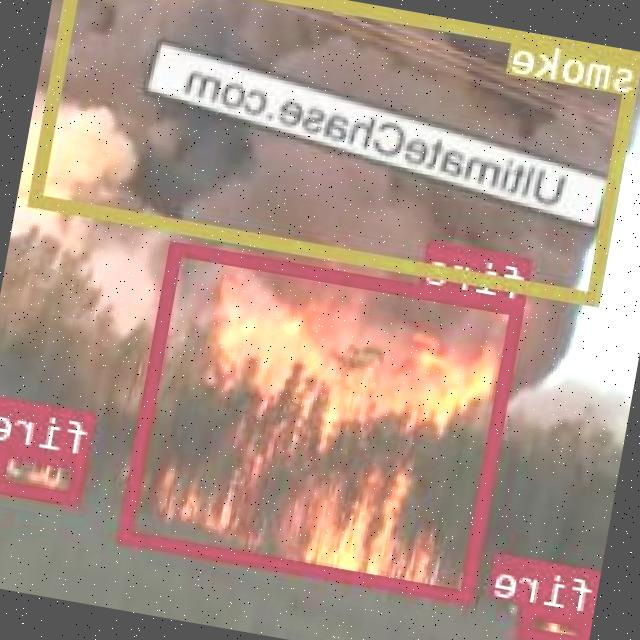fire: (119, 240, 526, 603), (0, 442, 90, 503), (520, 601, 593, 640)
smoke: (32, 0, 640, 305)
